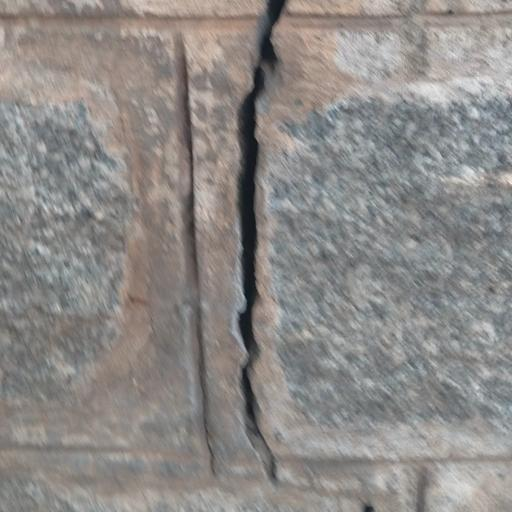major_crack: (191, 0, 321, 512)
